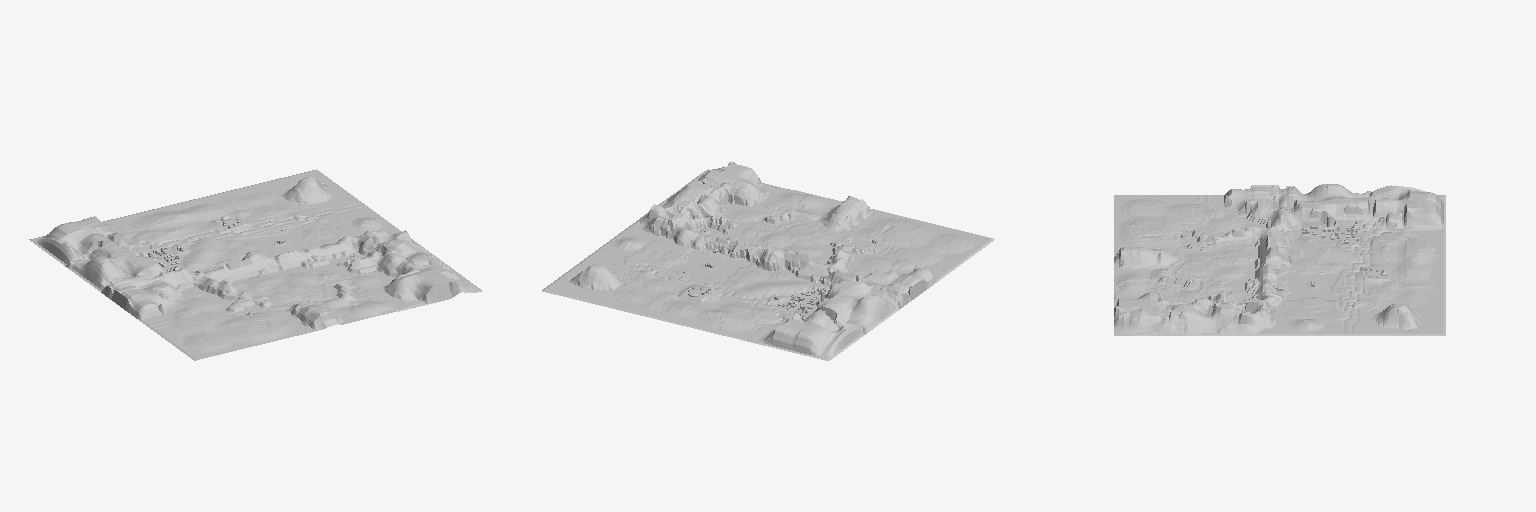
Rendered from OutB2.Odm.obj.
The picture shows the model from 3 angles: view 1: azimuth 30°, elevation 25°; view 2: azimuth 150°, elevation 25°; view 3: azimuth 270°, elevation 25°; orthographic projection.
Parts seen in each view (by area): view 1: _Ground_; view 2: _Ground_; view 3: _Ground_.
Part boxes in pixels (x1,y1,x2,y2): _Ground_: (29, 169, 481, 360); _Ground_: (542, 162, 994, 360); _Ground_: (1114, 184, 1445, 335).
Bounding box in the file's own units: 65024 × 4064 × 65024.